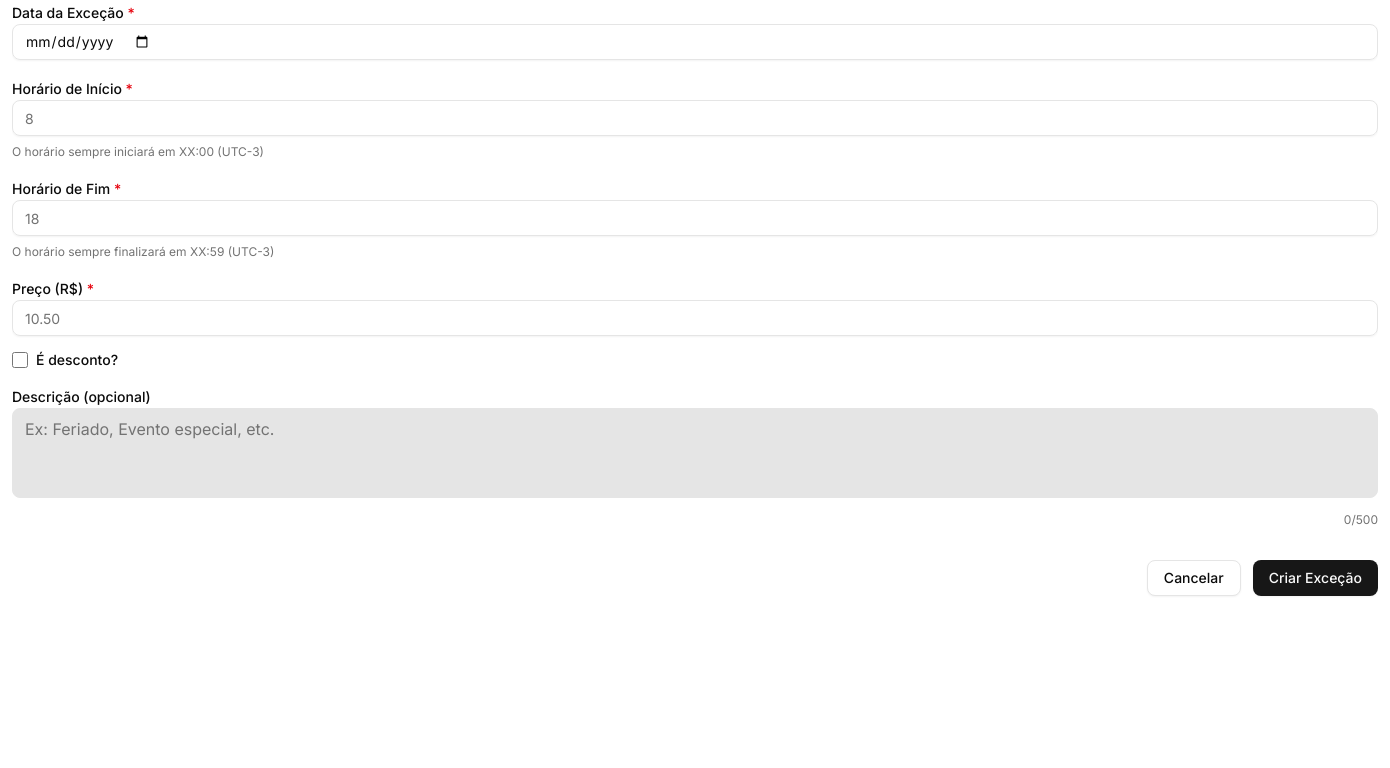
priceExceptionForm › validation › should show validation error when end_hour is less than start_hour
Type "2024-01-01" into the date field labelled "Data da Exceção *".
click(695, 42); type("2024-01-01")  # box left=12, top=24, right=1378, bottom=60
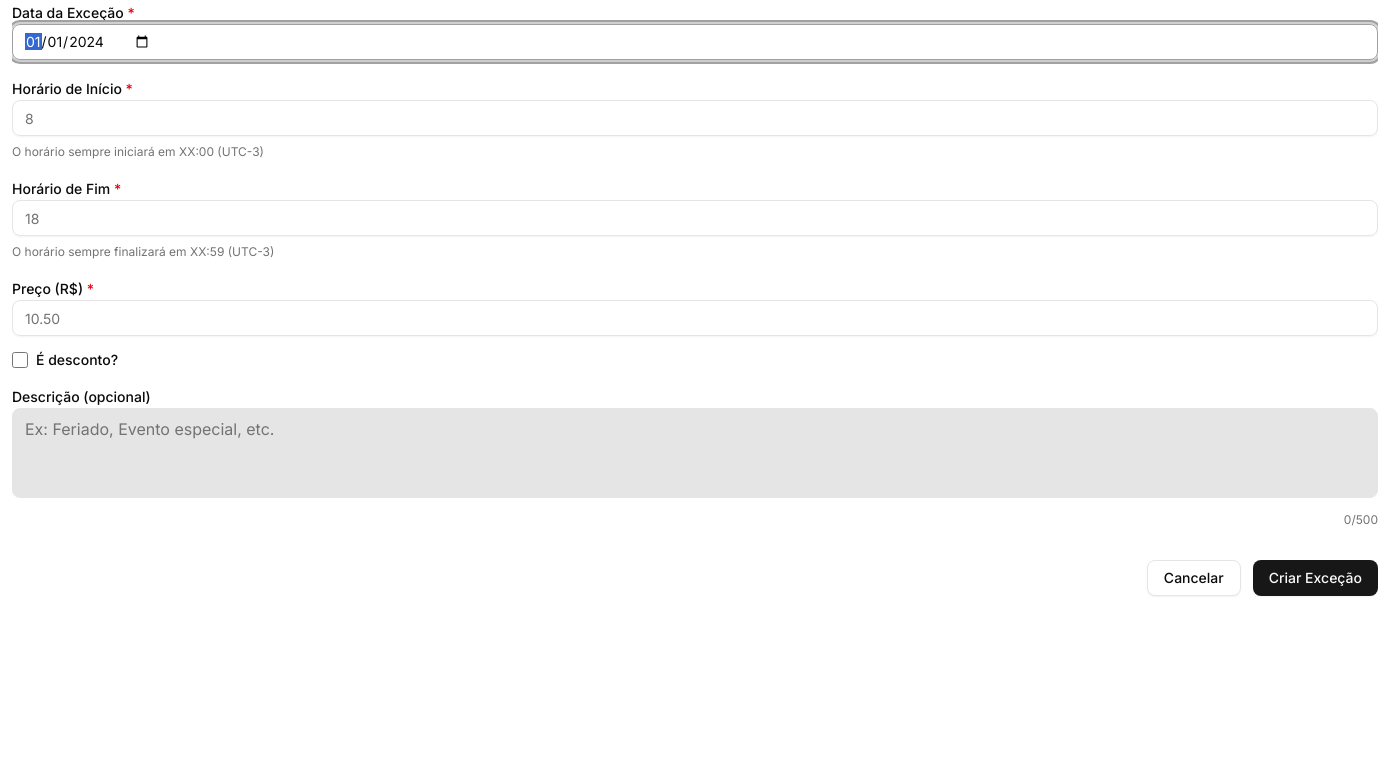
Type "10" into the number field labelled "Horário de Início *".
click(695, 118); type("10")  # box left=12, top=100, right=1378, bottom=136
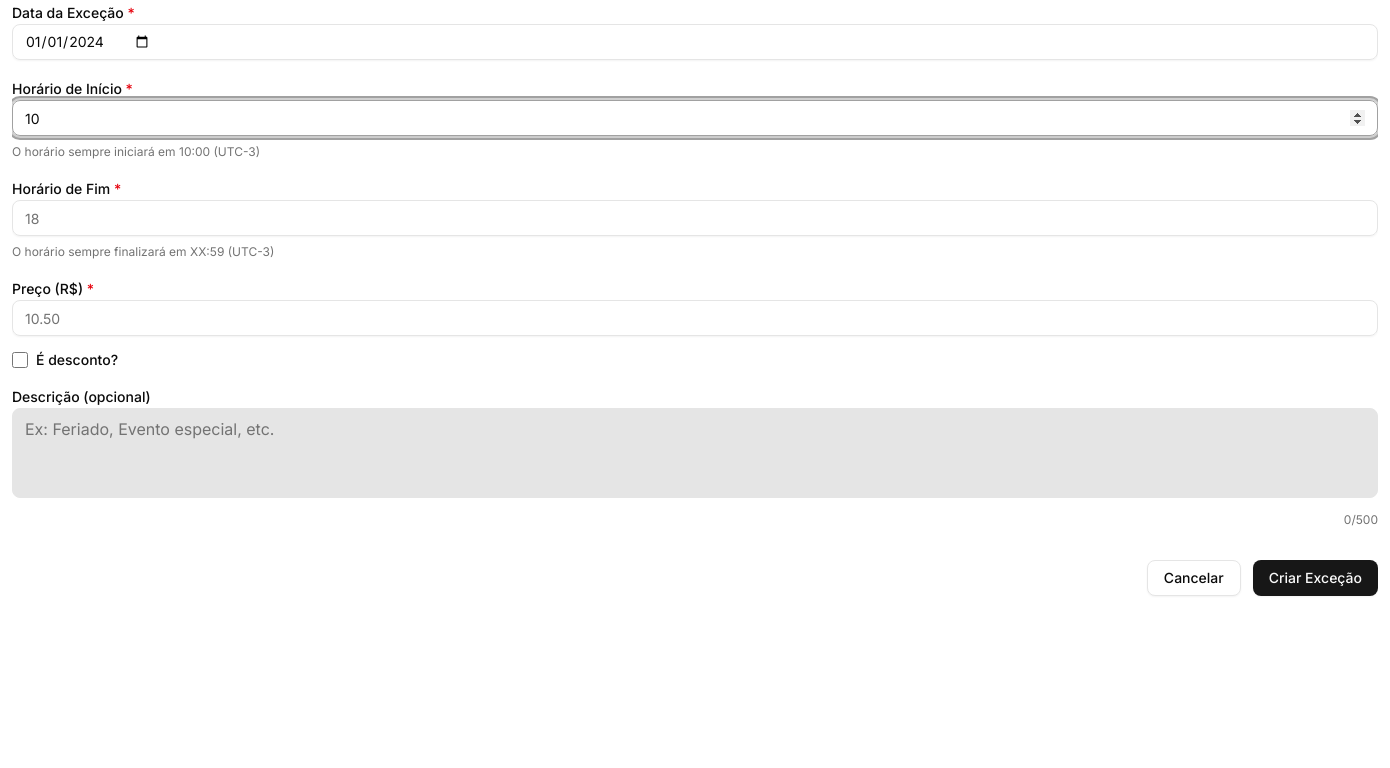
Type "8" into the number field labelled "Horário de Fim *".
click(695, 218); type("8")  # box left=12, top=200, right=1378, bottom=236
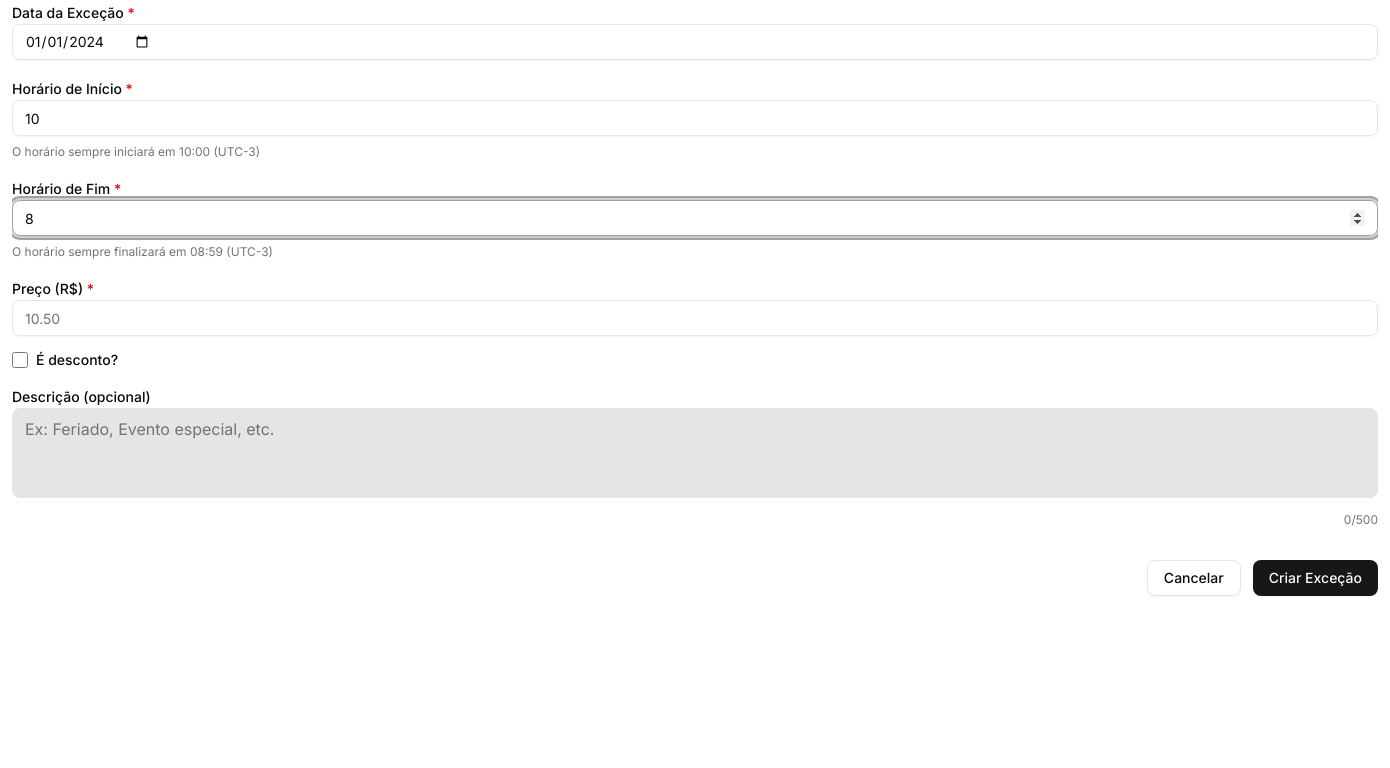
Type "10.00" into the number field labelled "Preço (R$) *".
click(695, 318); type("10.00")  # box left=12, top=300, right=1378, bottom=336
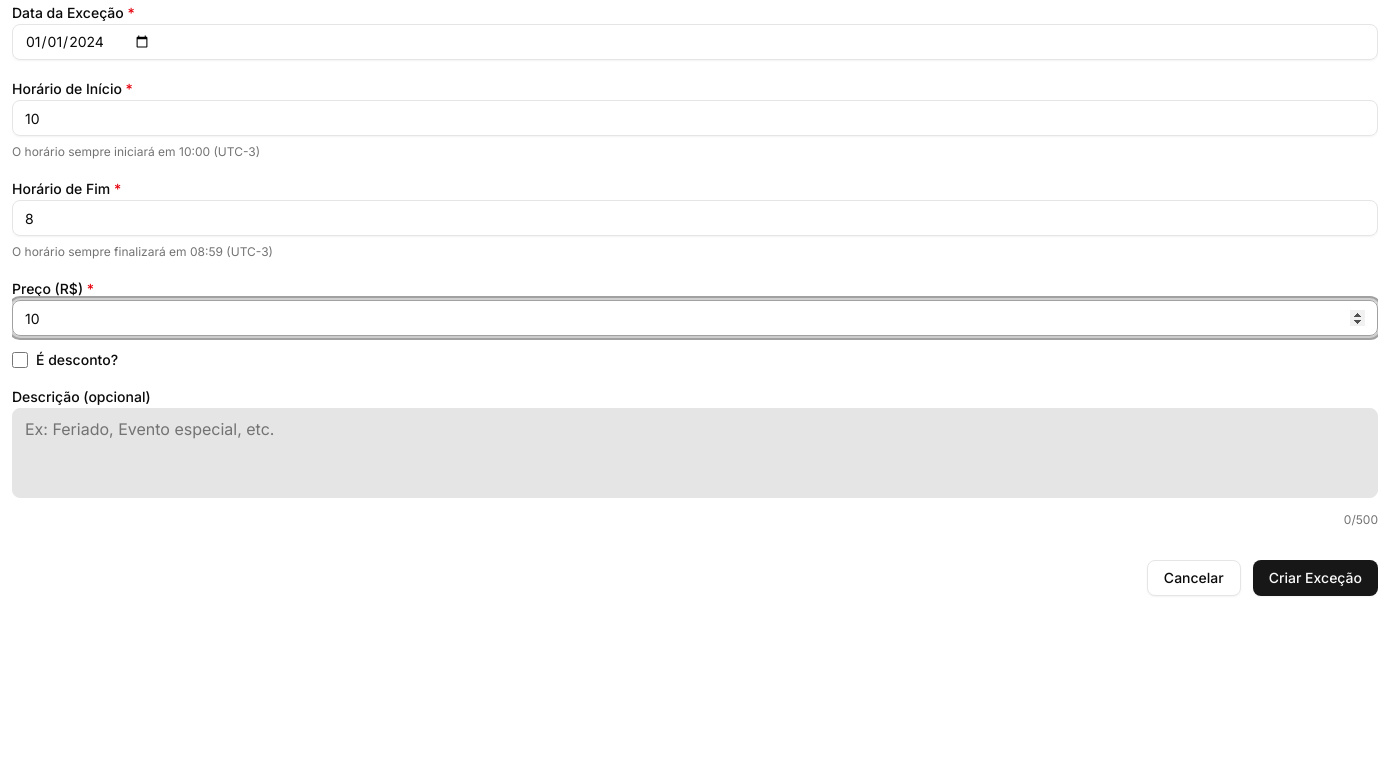
Click the button "Criar Exceção".
click(1315, 578)  # box left=1253, top=560, right=1378, bottom=596
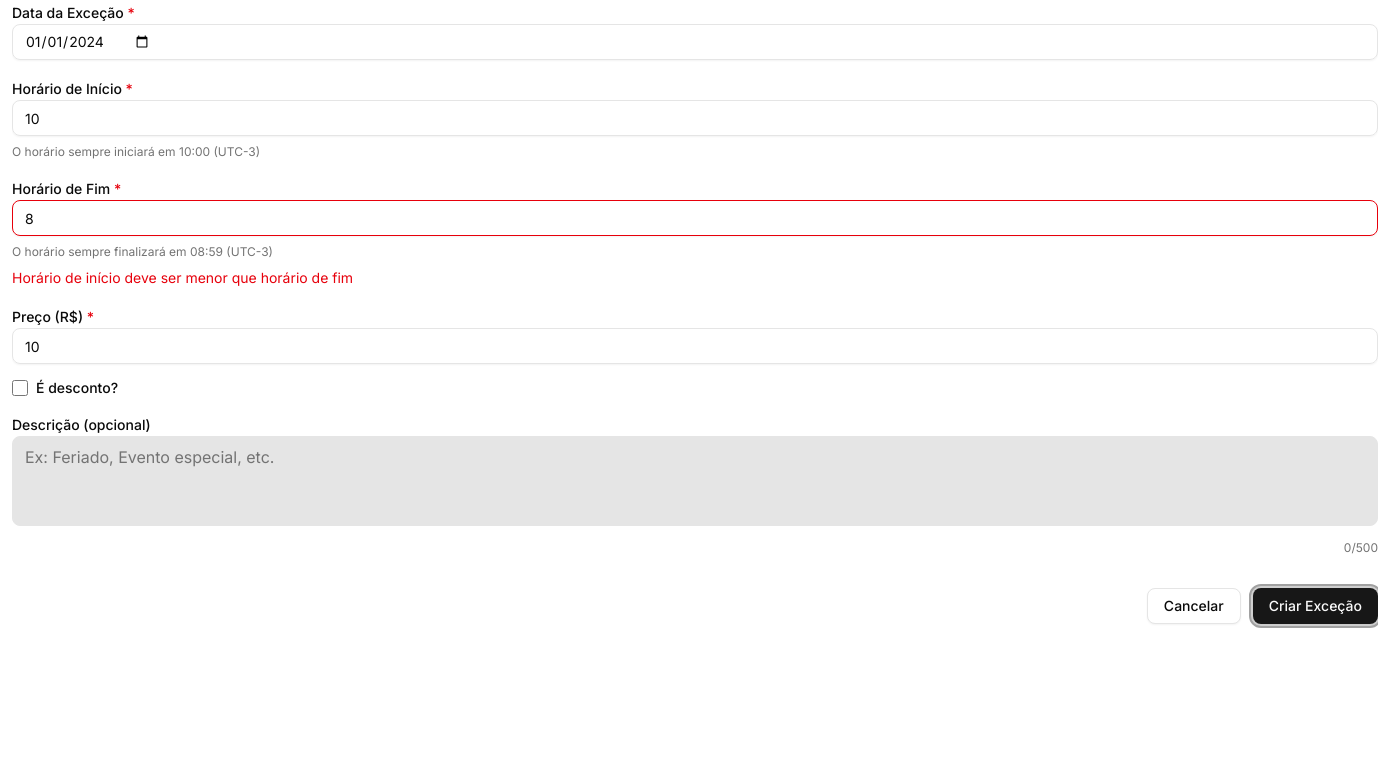
Now the text "Horário de início deve ser menor que horário de fim" is shown, box left=12, top=269, right=353, bottom=286
